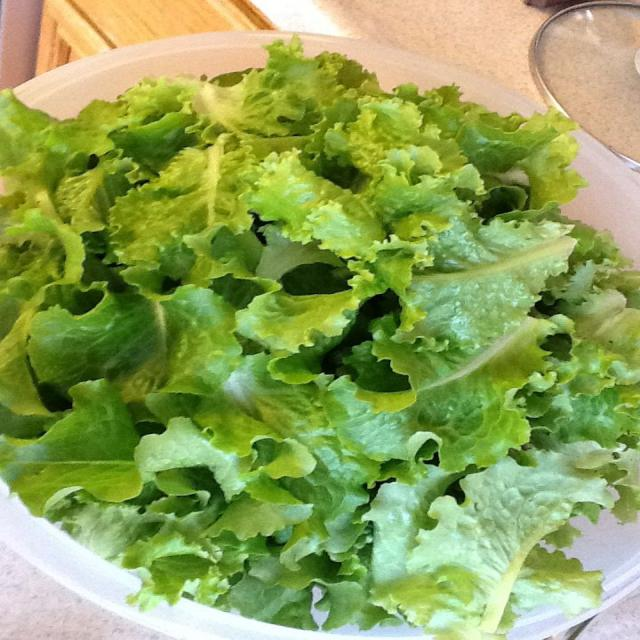lettuce: (0, 39, 639, 639)
